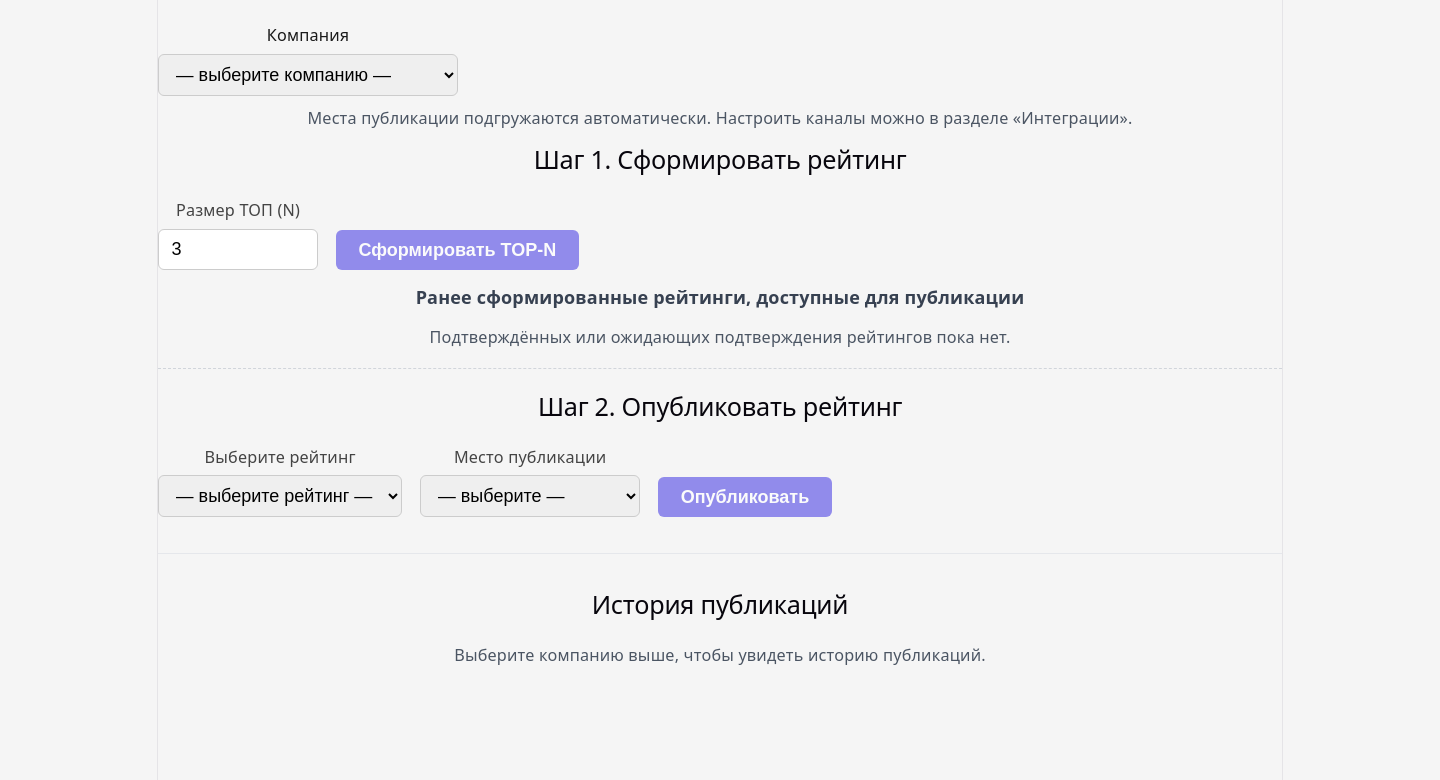
Test: PublicationsPage › после отмены публикации статус строки обновляется на RECALLED
Select "Тестовая компания" in the dropdown labelled "Компания": (308, 75) [158, 54, 458, 96]
(page scrolled)
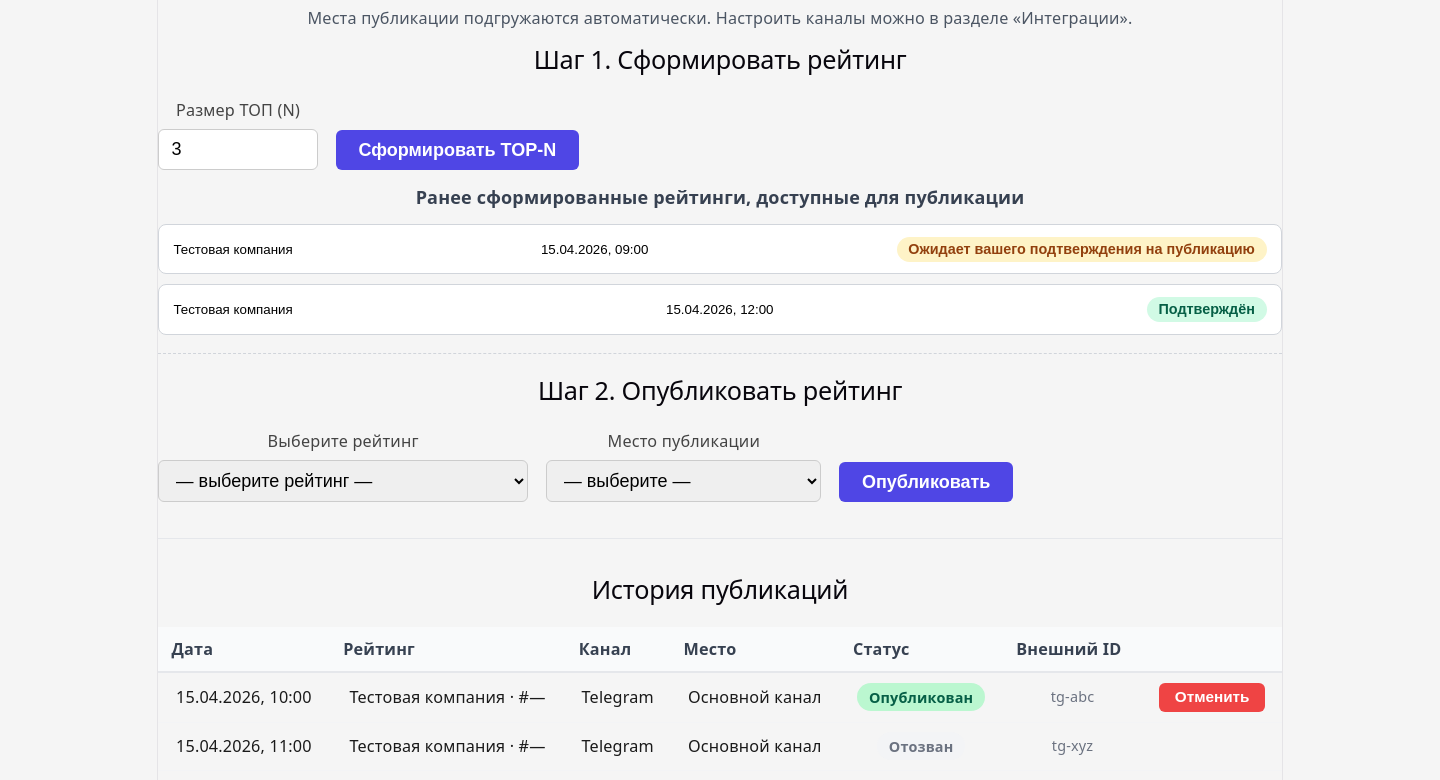
Result: the button "Отменить" is shown
Click the button "Отменить": (1212, 697) [1160, 683, 1265, 712]
(page scrolled)
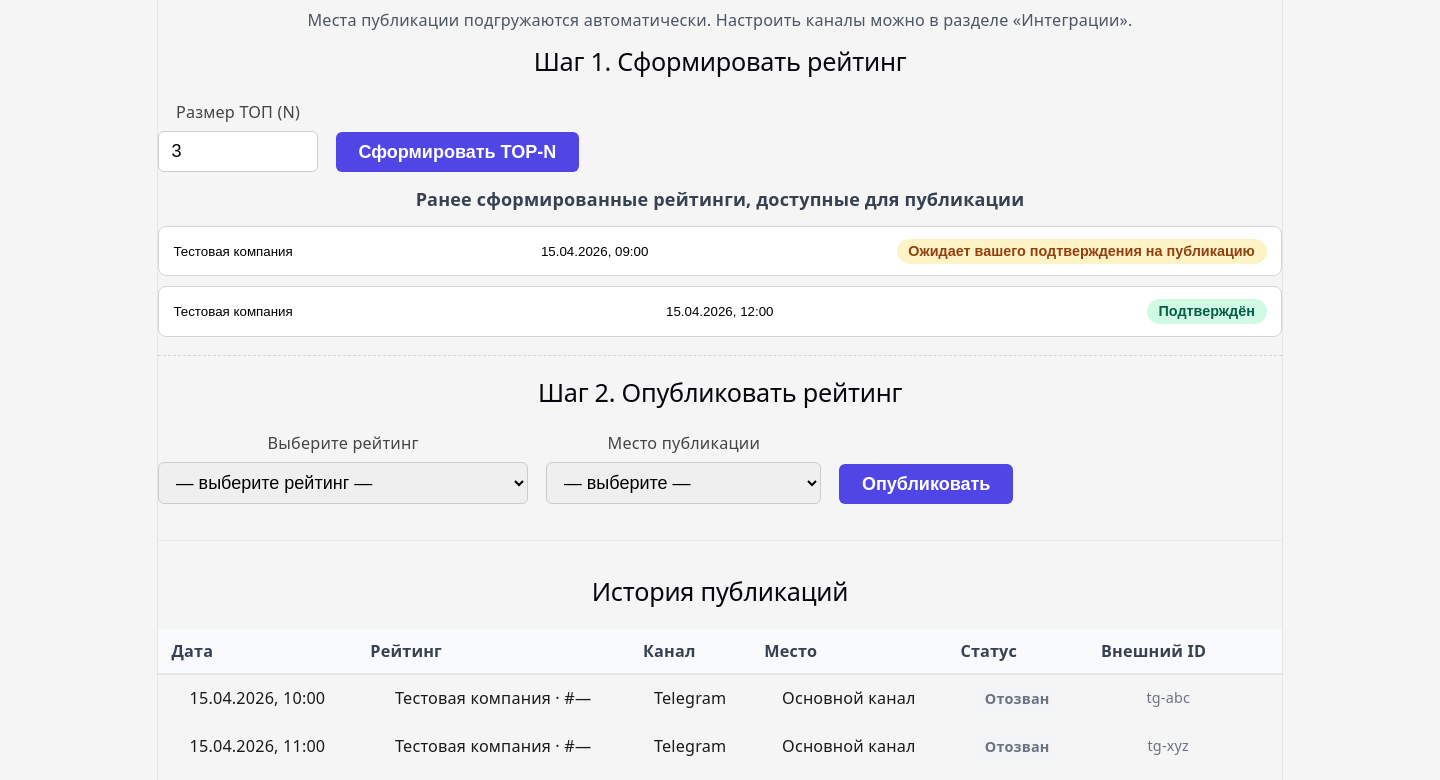
Result: the text "Отозван" is shown 2 times at [973, 684, 1061, 712]; [973, 732, 1061, 760]
Result: the button "Отменить" is gone
